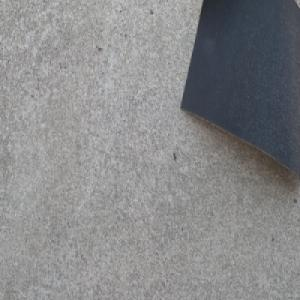PaintChip: (178, 0, 300, 183)
